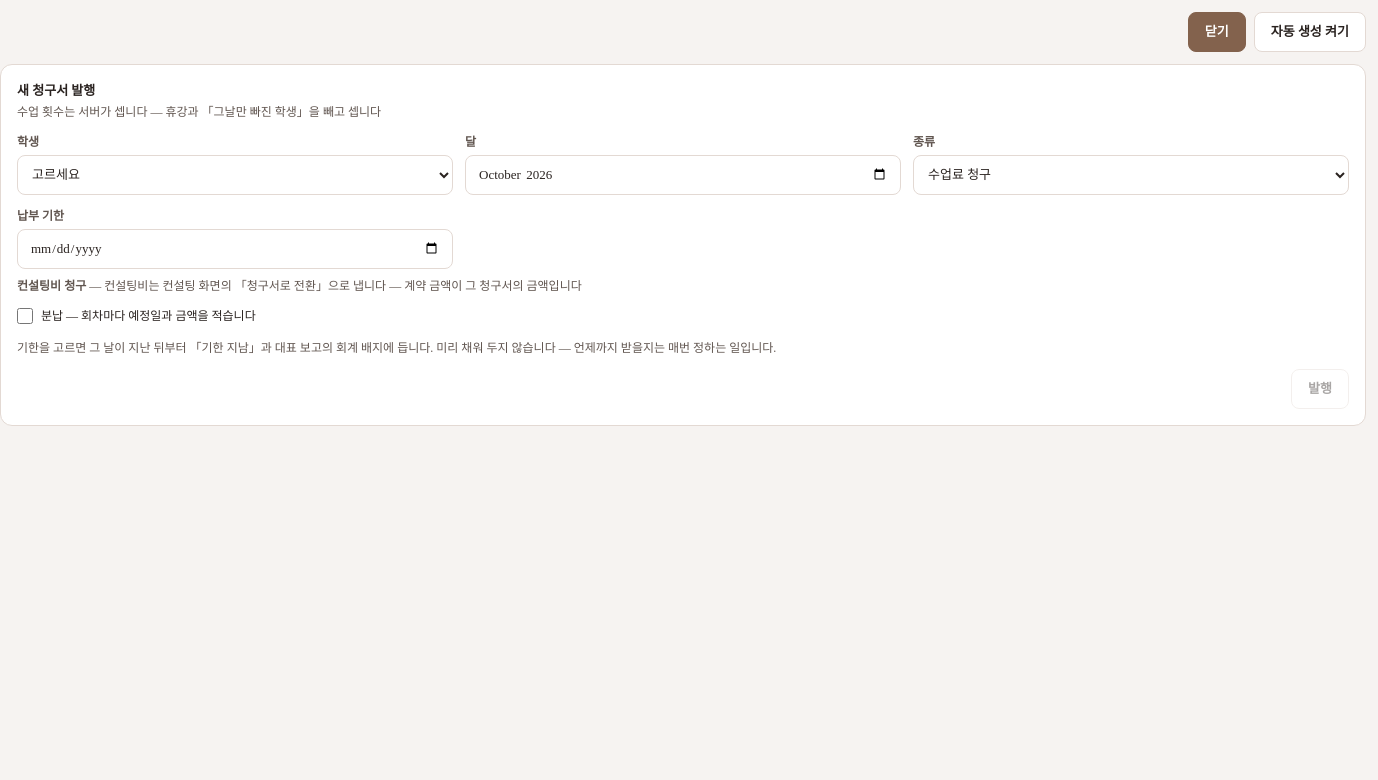
분납 합이 틀리면 서버 문장을 그대로 보인다 — 화면이 합을 다시 판정하지 않는다
Select "양찬욱 · G10" in the dropdown labelled "학생" at [235, 174], box [17,154,453,194]
Click the checkbox labelled "분납 — 회차마다 예정일과 금액을 적습니다".
click(25, 316)  # box [17,308,33,324]
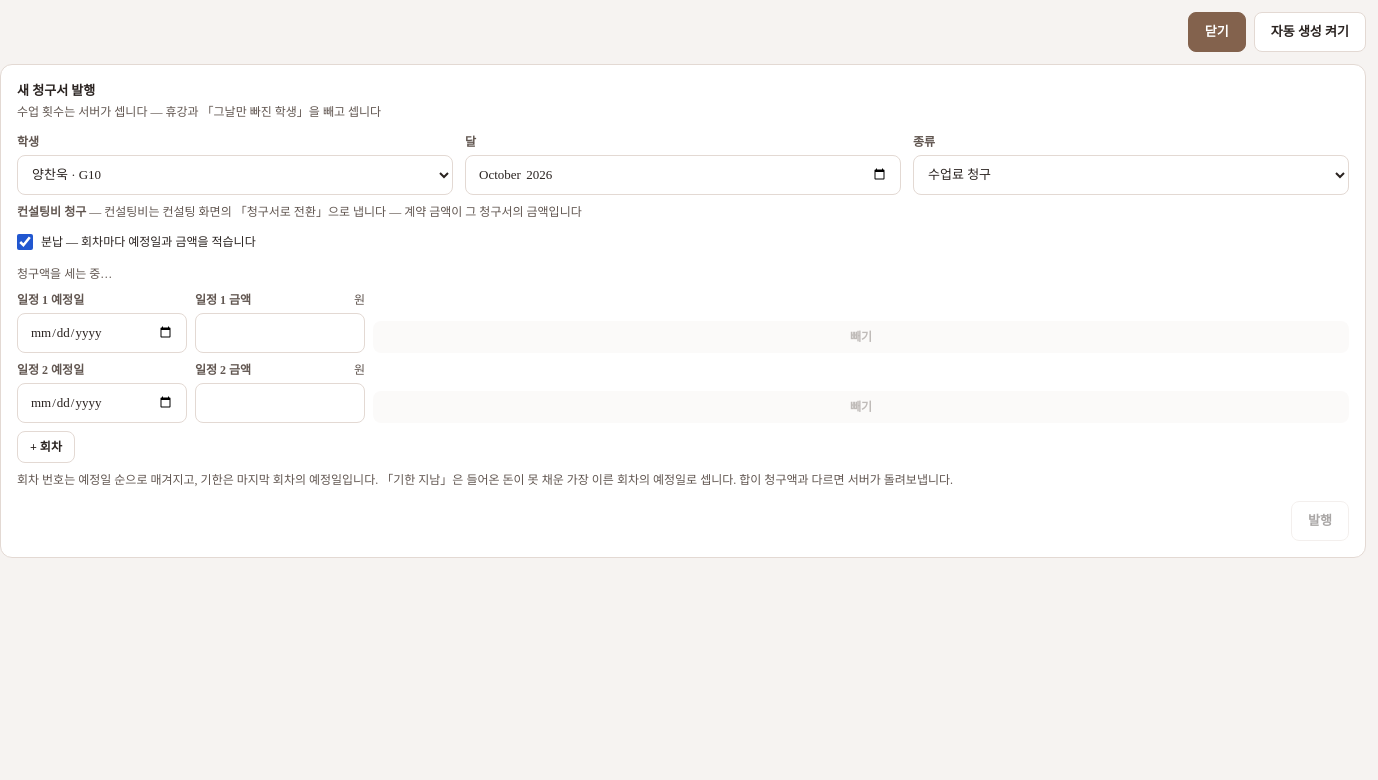
Type "2026-08-25" into the date field labelled "일정 1 예정일".
click(102, 332); type("2026-08-25")  # box [17,312,187,352]
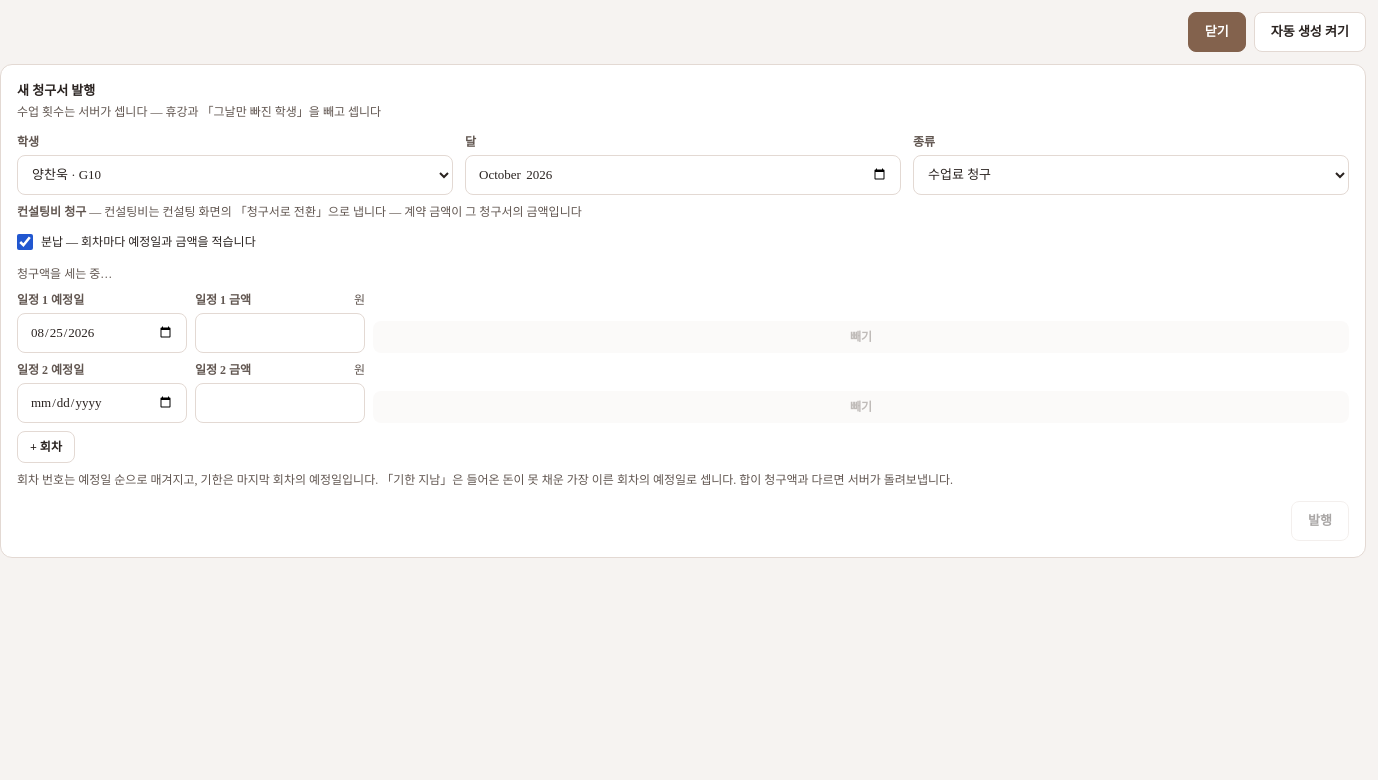
Type "100000" into the number field labelled "일정 1 금액".
click(280, 332); type("100000")  # box [195,312,365,352]
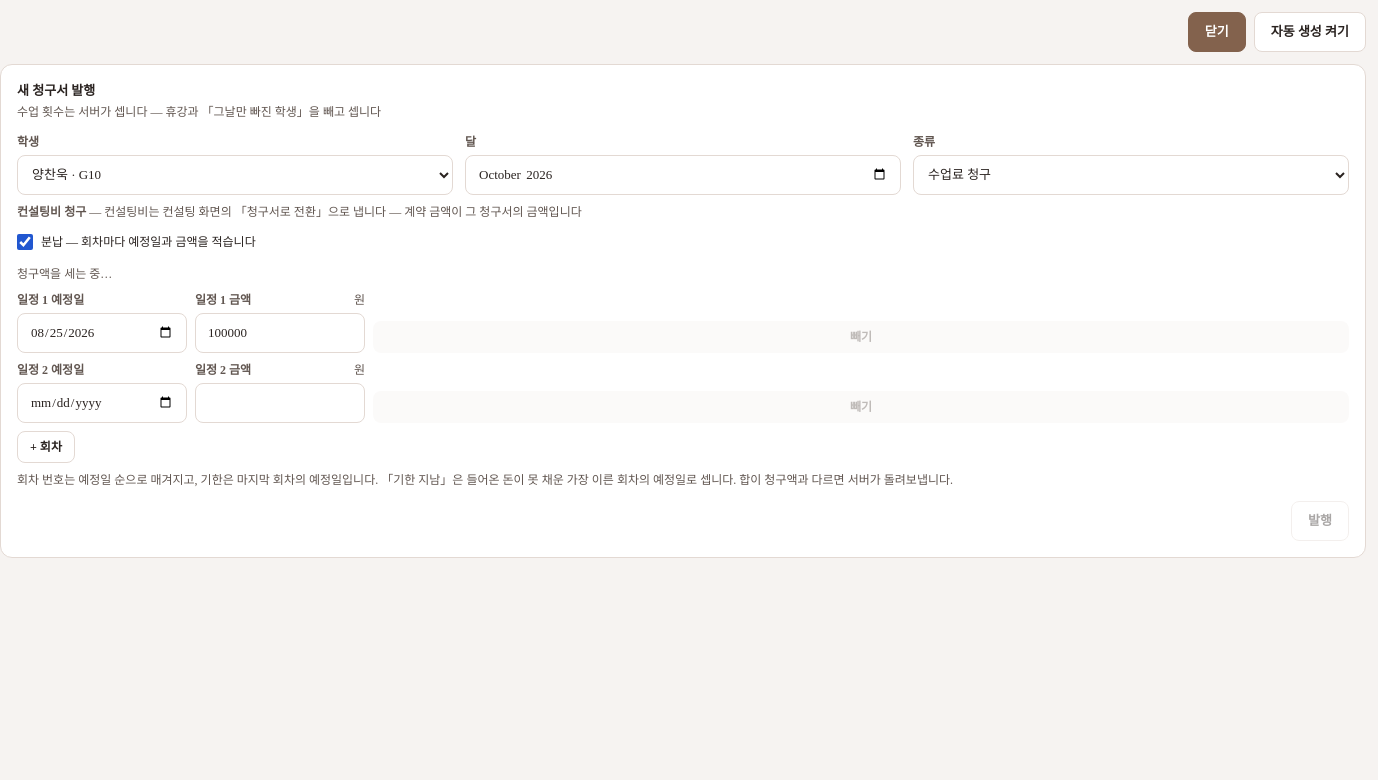
Type "2026-09-10" into the date field labelled "일정 2 예정일".
click(102, 402); type("2026-09-10")  # box [17,382,187,422]
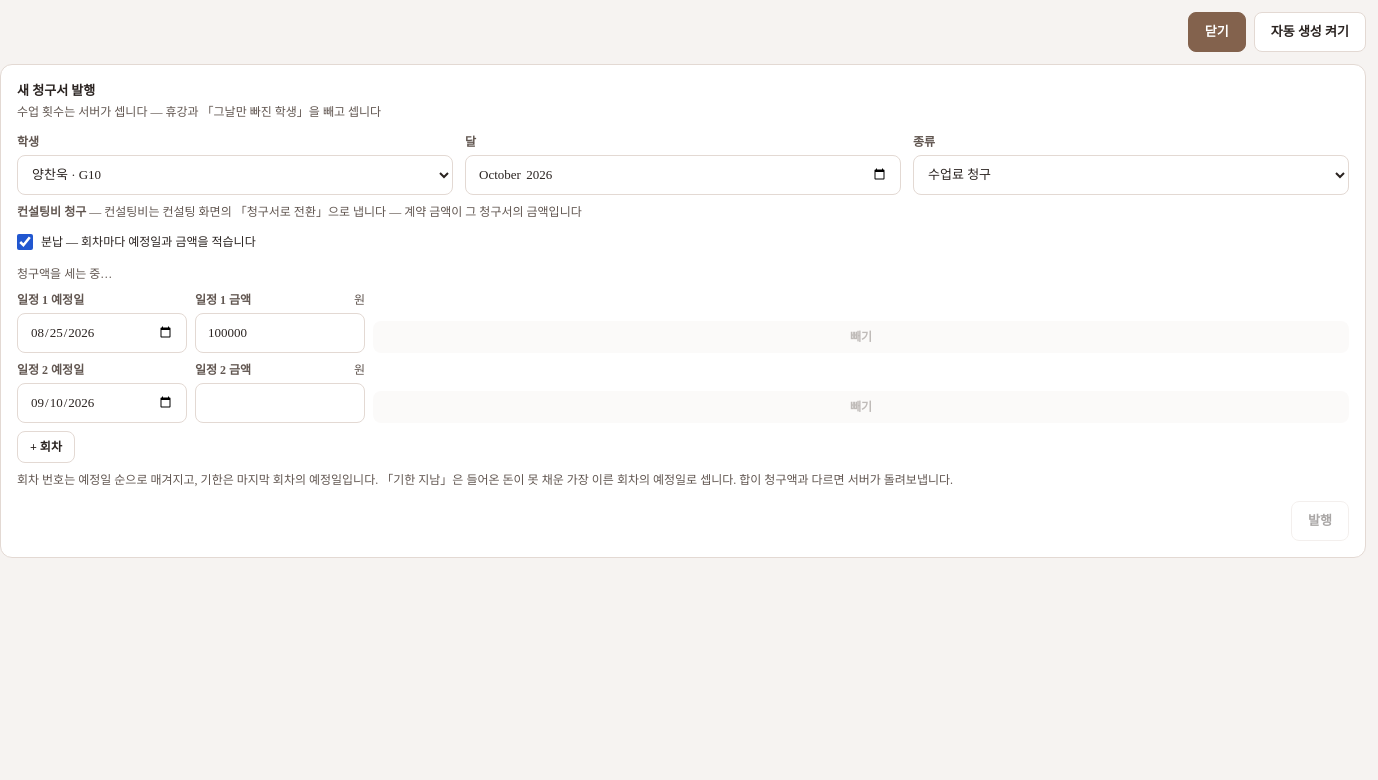
Type "100000" into the number field labelled "일정 2 금액".
click(280, 402); type("100000")  # box [195,382,365,422]
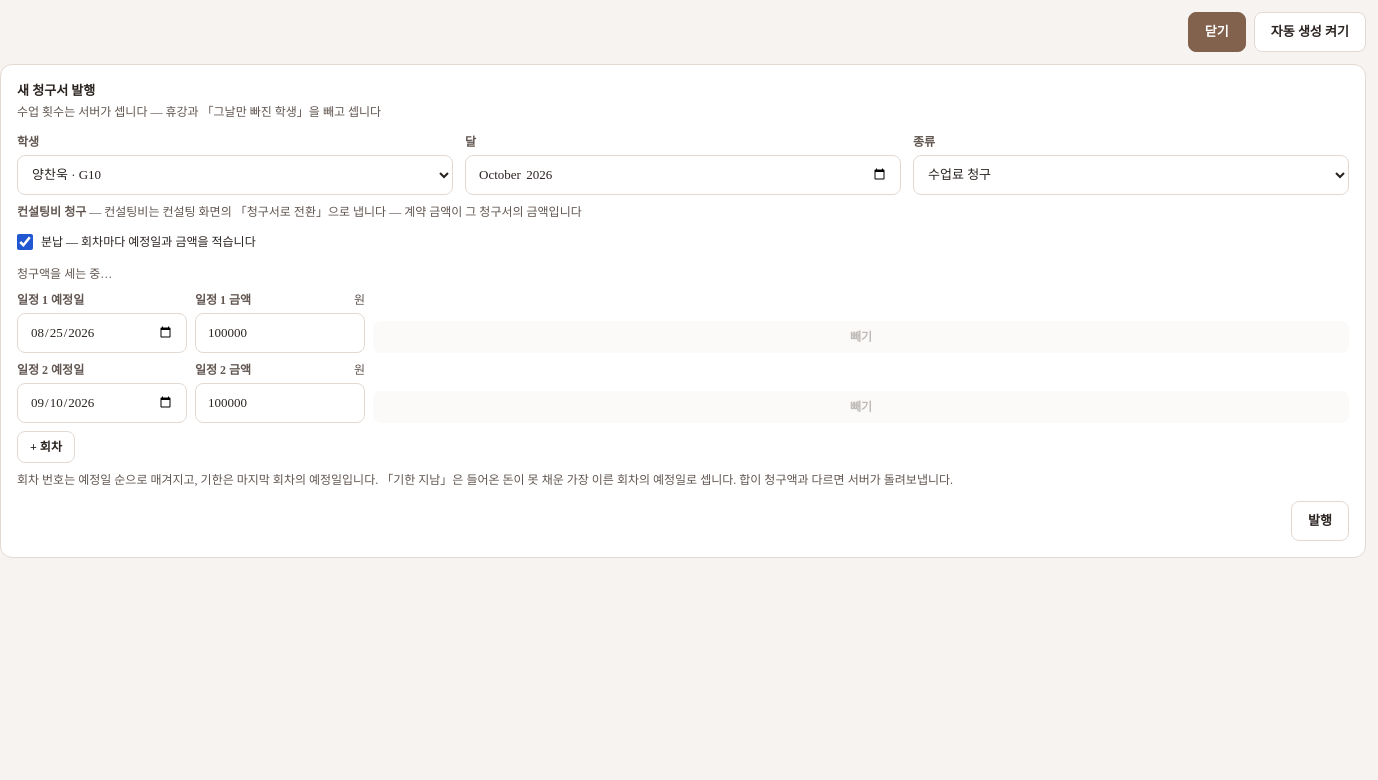
Click the button "발행".
click(1320, 520)  # box [1291,500,1349,540]
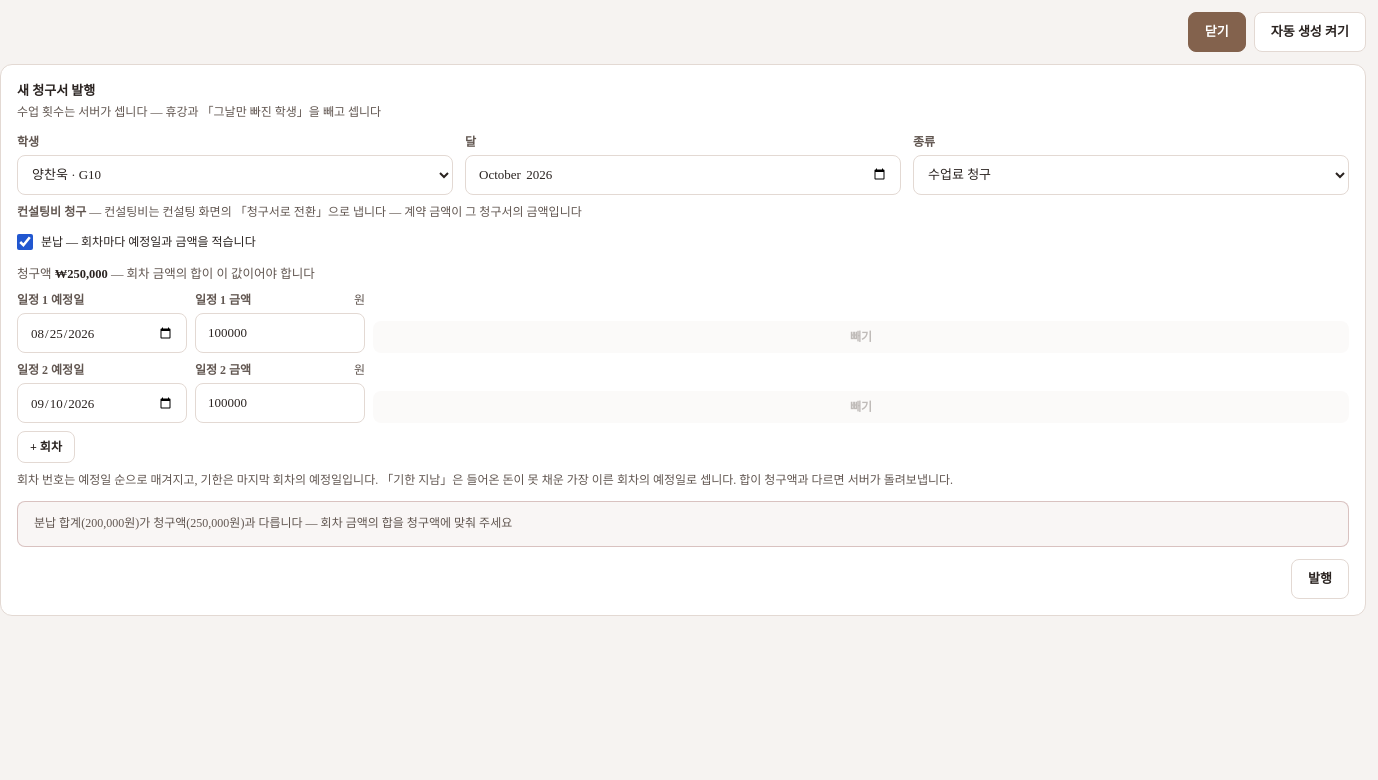
Expected: the text "분납 합계(200,000원)가 청구액(250,000원)과 다릅니다 — 회차 금액의 합을 청구액에 맞춰 주세요" is shown, [17,501,1349,547]
